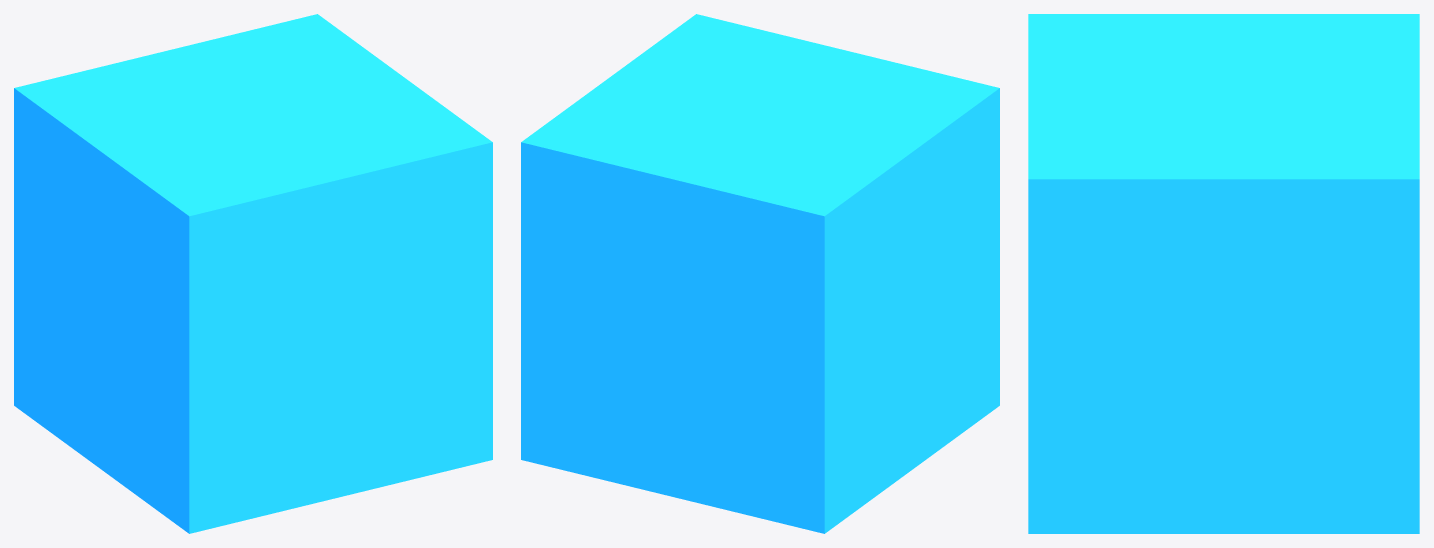
Rendered from cubeModel.glb.
3 views of the same model, side by side, from view 1: azimuth 30°, elevation 25°; view 2: azimuth 150°, elevation 25°; view 3: azimuth 270°, elevation 25° (orthographic). The views are drawn at different scales.
Visible parts, largest first — view 1: Cube; view 2: Cube; view 3: Cube.
Part boxes in pixels (box(x1,y1,x2,y2)): Cube: box(14, 14, 492, 533); Cube: box(521, 14, 999, 533); Cube: box(1028, 14, 1419, 533).
Bounding box in the file's own units: 2.15 × 2.15 × 2.15.
